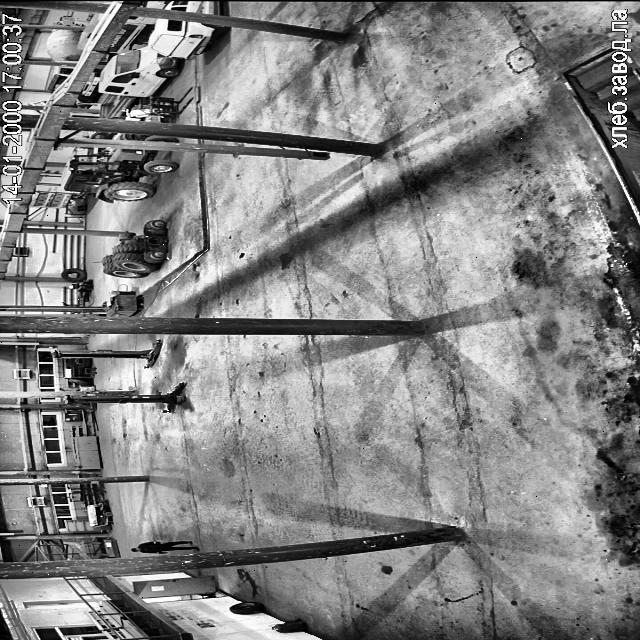car lift: (65, 383, 185, 412), (52, 340, 161, 368)
fire extinguisher: (272, 619, 306, 632)
mechanic: (132, 540, 197, 552)
tractor: (60, 148, 178, 202), (143, 136, 177, 142), (114, 140, 116, 143), (108, 144, 110, 144)
truck: (100, 47, 179, 116), (148, 20, 228, 60), (108, 16, 156, 52), (78, 14, 102, 48), (165, 0, 219, 14), (45, 66, 73, 92), (77, 76, 100, 104), (140, 0, 164, 8)
